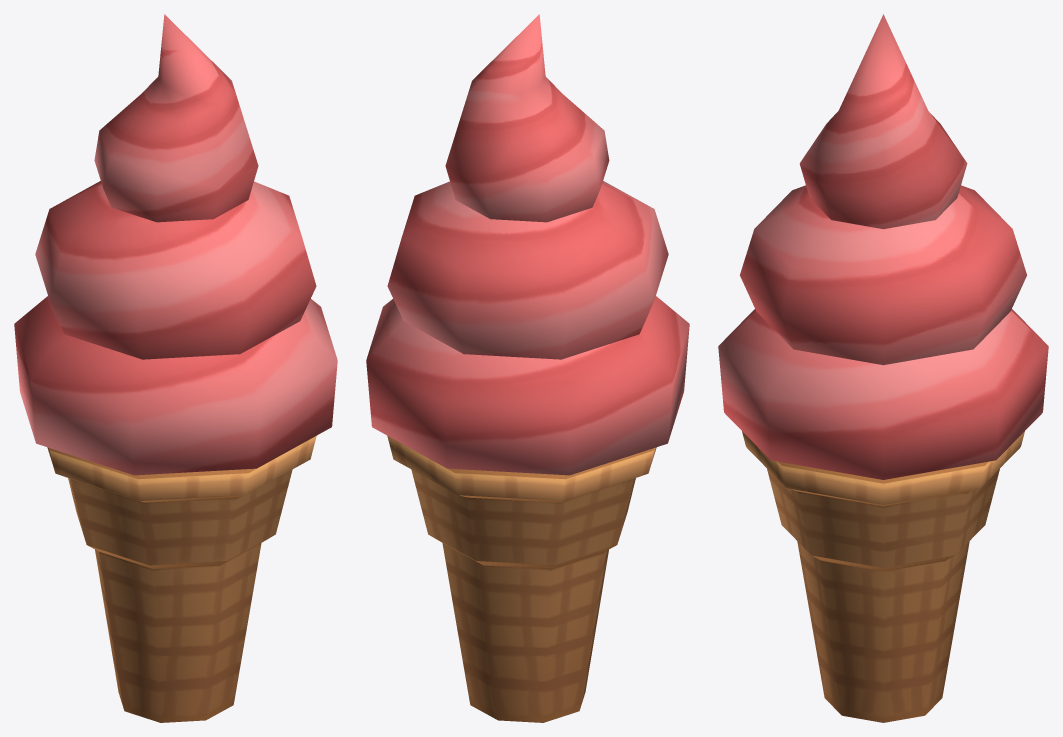
The model's file is icecreamcone-low-poly.fbx.
3 views of the same model, side by side, from view 1: azimuth 30°, elevation 25°; view 2: azimuth 150°, elevation 25°; view 3: azimuth 270°, elevation 25° (orthographic).
Visible parts, largest first — view 1: taco; view 2: taco; view 3: taco.
Part boxes in pixels (x1,y1,x2,y2): taco: [14, 14, 337, 722]; taco: [366, 14, 689, 722]; taco: [718, 14, 1048, 722].
Size of the model in its own units: 7.42 by 16.8 by 7.42.
Materials: 1 (1 with a texture image).
